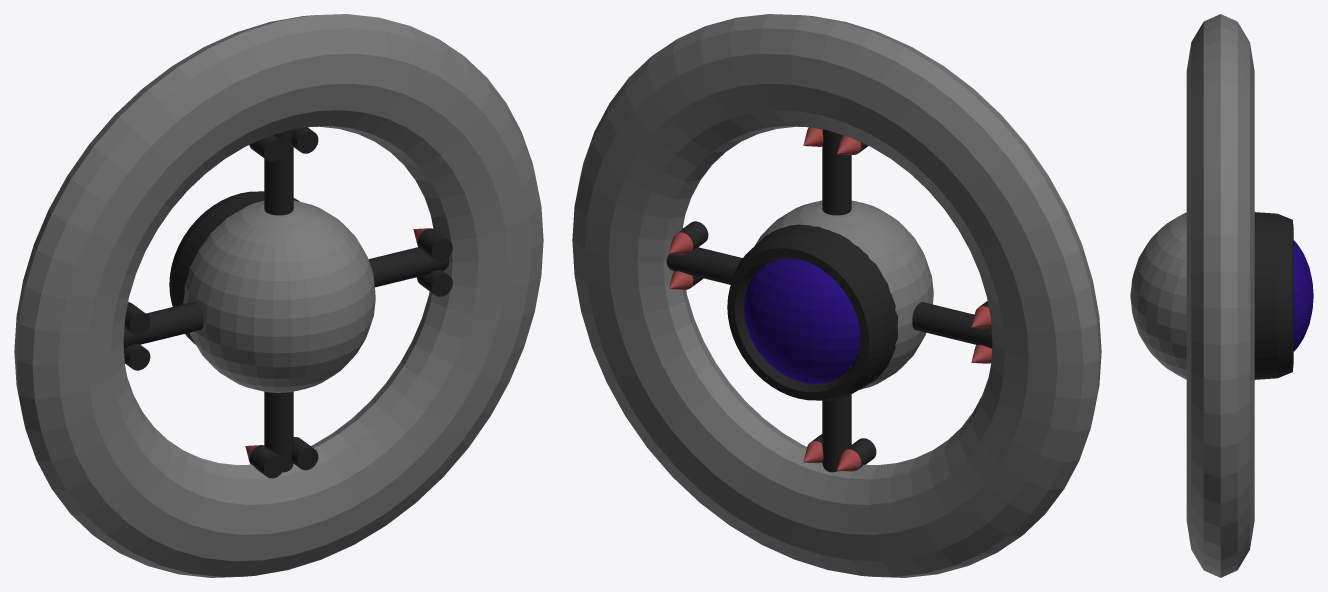
The model's file is SPOILER_IDontKnowWhereIWasGoingWithThis.fbx.
The picture shows the model from 3 angles, left to right: view 1: azimuth 30°, elevation 25°; view 2: azimuth 150°, elevation 25°; view 3: azimuth 270°, elevation 25°; orthographic projection. The views are drawn at different scales.
Parts seen in each view (by area): view 1: Torus, Sphere, Cylinder.001, Cylinder, Torus.001, Cylinder.006, Cylinder.007, Cylinder.008; view 2: Torus, Torus.001, Sphere.001, Sphere, Cylinder.001, Cylinder; view 3: Torus, Sphere, Torus.001, Sphere.001.
Boxes of the visible parts, x1,y1,x2,y2 form: Torus: (14, 14, 543, 577); Sphere: (183, 200, 375, 392); Cylinder.001: (264, 129, 293, 472); Cylinder: (123, 247, 449, 348); Torus.001: (169, 191, 299, 344); Cylinder.006: (249, 445, 284, 478); Cylinder.007: (417, 228, 452, 261); Cylinder.008: (417, 270, 452, 296); Torus: (572, 14, 1101, 577); Torus.001: (727, 224, 897, 400); Sphere.001: (743, 258, 860, 383); Sphere: (746, 200, 933, 389); Cylinder.001: (822, 129, 851, 472); Cylinder: (666, 247, 992, 348); Torus: (1186, 14, 1254, 577); Sphere: (1130, 212, 1186, 379); Torus.001: (1254, 212, 1293, 379); Sphere.001: (1293, 240, 1313, 351).
Size of the model in its own units: 1250 by 1250 by 406.
